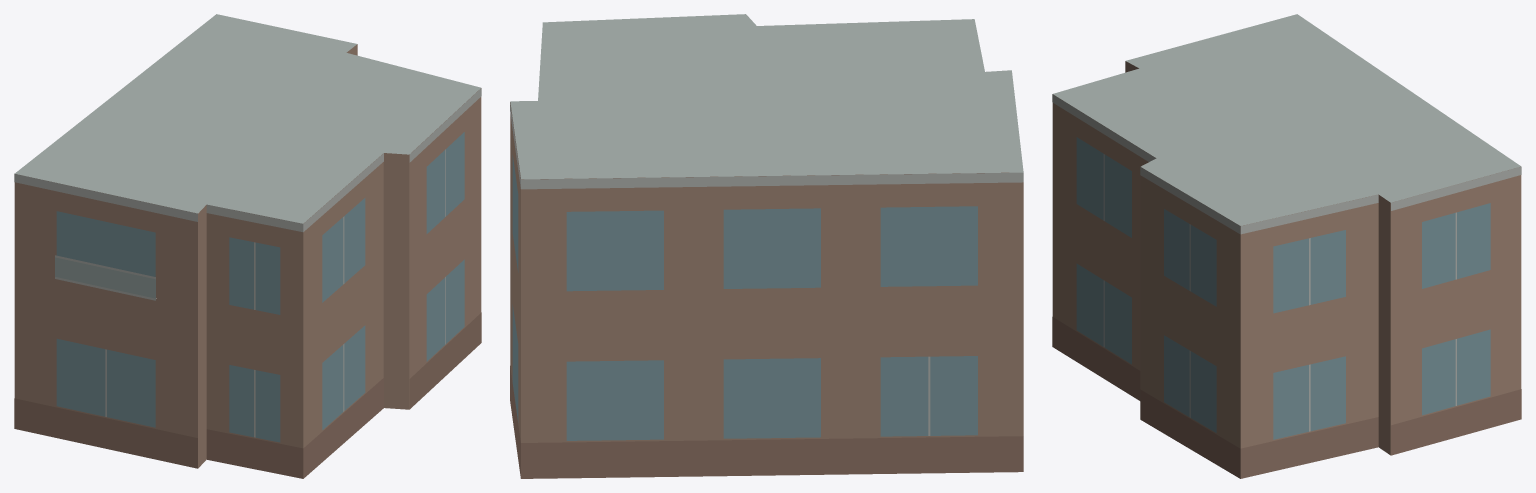
The model's file is survey-upis-32924196.glb.
3 views of the same model, side by side, from view 1: azimuth 30°, elevation 25°; view 2: azimuth 150°, elevation 25°; view 3: azimuth 270°, elevation 25° (orthographic). The views are drawn at different scales.
Parts seen in each view (by area): view 1: survey-upis-32924196.tmp; view 2: survey-upis-32924196.tmp; view 3: survey-upis-32924196.tmp.
Part boxes in pixels (x1=…): survey-upis-32924196.tmp: x1=14, y1=14, x2=481, y2=478; survey-upis-32924196.tmp: x1=510, y1=14, x2=1023, y2=478; survey-upis-32924196.tmp: x1=1052, y1=14, x2=1521, y2=478.
Bounding box in the file's own units: 13.13 × 7.3 × 12.28.
